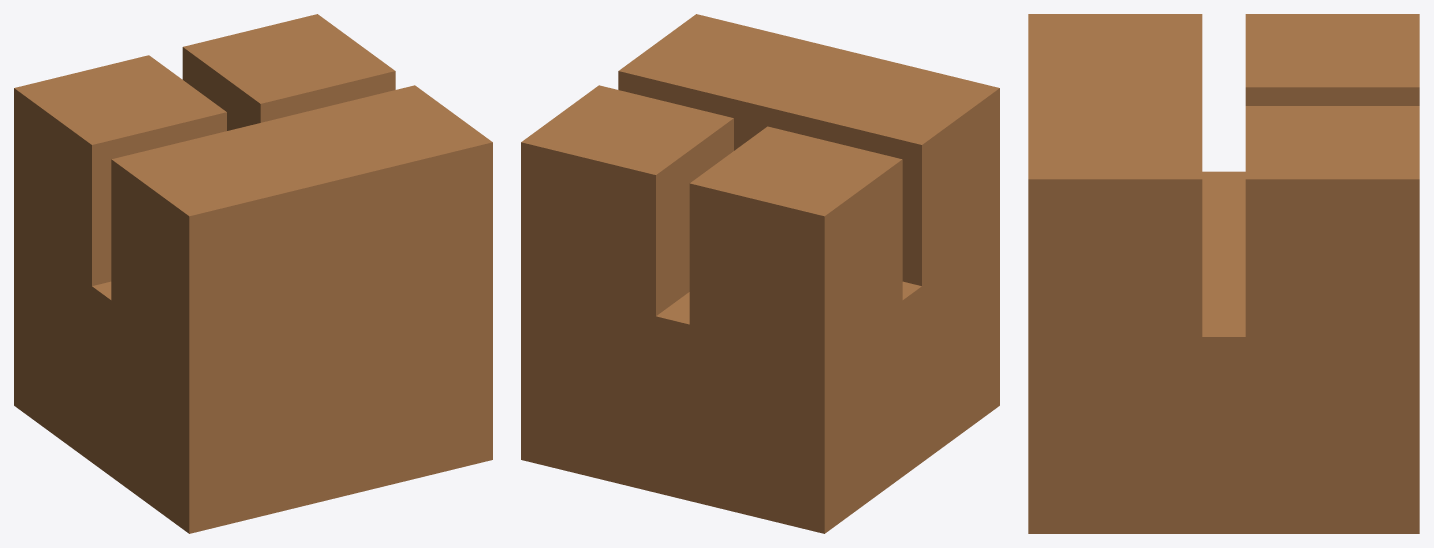
Rendered from Thin_TPiece_Model.fbx.
3 views of the same model, side by side, from view 1: azimuth 30°, elevation 25°; view 2: azimuth 150°, elevation 25°; view 3: azimuth 270°, elevation 25° (orthographic). The views are drawn at different scales.
Visible parts, largest first — view 1: Cube; view 2: Cube; view 3: Cube.
Part boxes in pixels (box(x1,y1,x2,y2)): Cube: box(14, 14, 492, 533); Cube: box(521, 14, 999, 533); Cube: box(1028, 14, 1419, 533).
Size of the model in its own units: 100 by 100 by 100.
